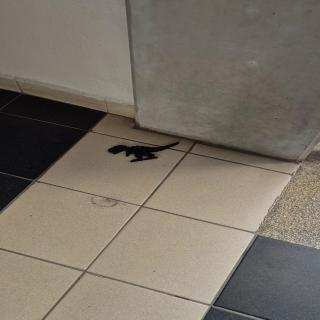dino: (107, 141, 180, 163)
